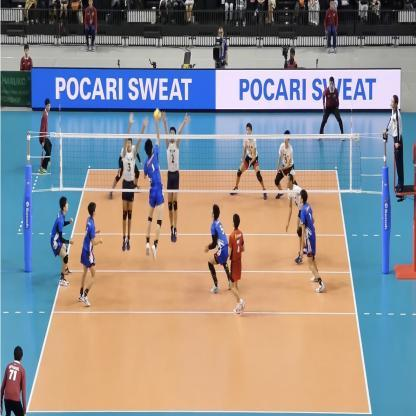spike: (141, 107, 164, 262)
